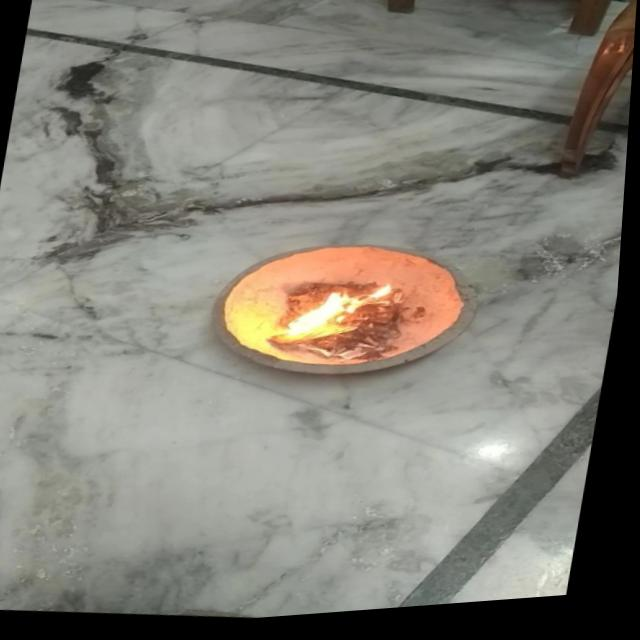fire: (280, 276, 403, 356)
